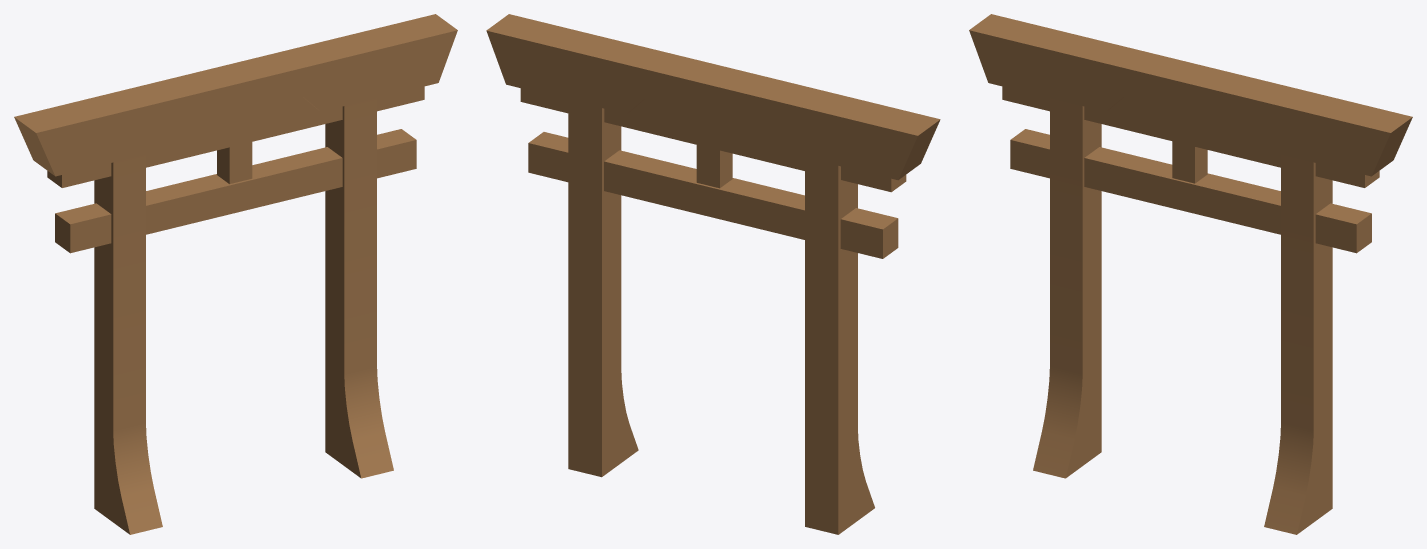
The model's file is Environment_ToriiGate.fbx.
The picture shows the model from 3 angles, left to right: view 1: azimuth 30°, elevation 25°; view 2: azimuth 150°, elevation 25°; view 3: azimuth 330°, elevation 25°; orthographic projection. The views are drawn at different scales.
Parts seen in each view (by area): view 1: Environment_ToriiGate; view 2: Environment_ToriiGate; view 3: Environment_ToriiGate.
Boxes of the visible parts, x1,y1,x2,y2 form: Environment_ToriiGate: (14,14,457,534); Environment_ToriiGate: (486,14,940,534); Environment_ToriiGate: (969,14,1412,534).
Bounding box in the file's own units: 573 × 532 × 87.55.
